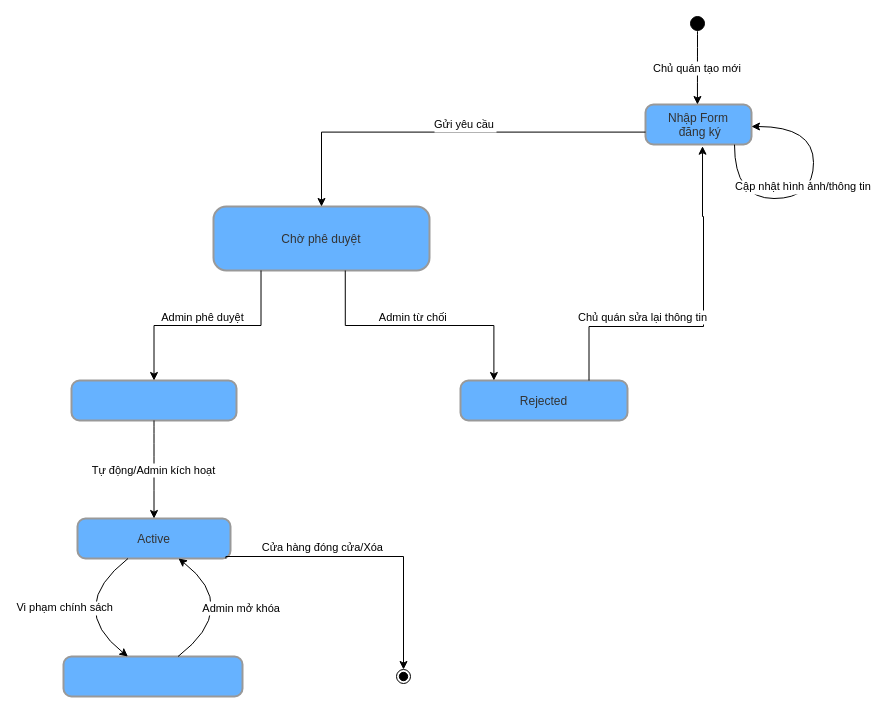
Image size: 889x713. Some labels were removed from this diagram. The centre of each missing label's shape, as x and y in pixels:
"Approved" goes at point (153, 400).
"Tạm khóa (Suspended)" goes at point (152, 676).
